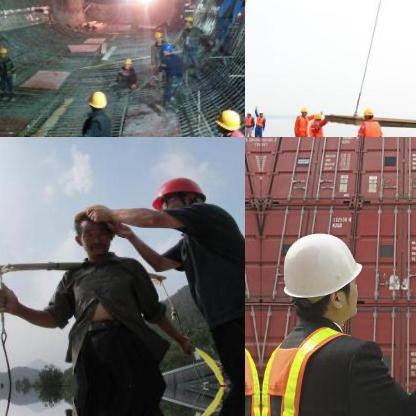Helmet: (270, 226, 374, 335), (147, 170, 209, 219), (70, 200, 118, 254), (215, 106, 241, 134), (87, 87, 107, 111), (360, 106, 374, 120), (294, 102, 308, 116), (309, 109, 323, 123), (180, 13, 192, 29), (159, 41, 171, 55), (122, 53, 132, 69), (154, 27, 162, 43), (0, 44, 8, 58)
